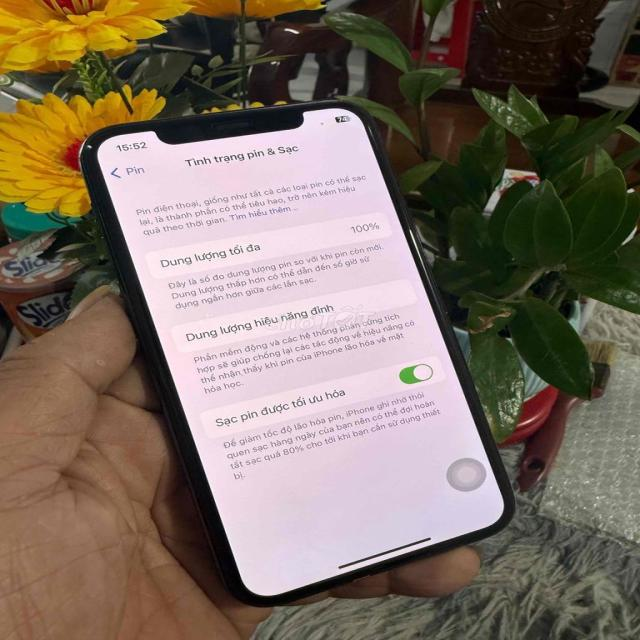gen_11: (80, 102, 512, 605)
